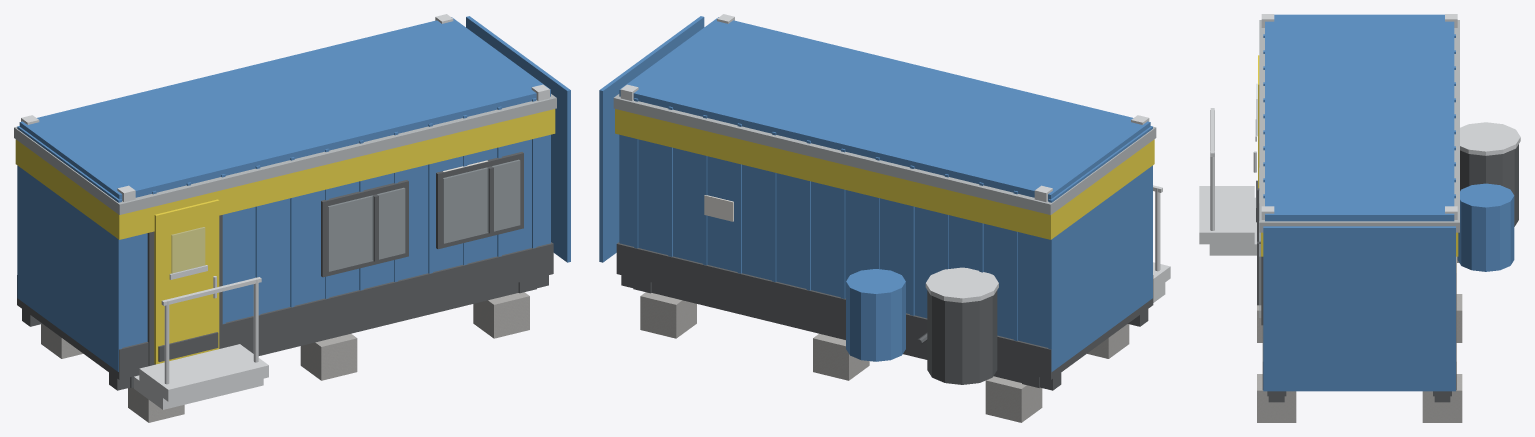
File: demolition-and-site-clearance-demolition-and-site-clea-83ef736a__35699.glb
3 views of the same model, side by side, from view 1: azimuth 30°, elevation 25°; view 2: azimuth 150°, elevation 25°; view 3: azimuth 270°, elevation 25° (orthographic). The views are drawn at different scales.
Parts seen in each view (by area): view 1: demolition-and-site-clearance-welfare-unit, cabin-door/yellow, cabin-door/glass, cabin-door/charcoal; view 2: demolition-and-site-clearance-welfare-unit; view 3: demolition-and-site-clearance-welfare-unit.
Boxes of the visible parts, x1=… form: demolition-and-site-clearance-welfare-unit: x1=14, y1=14, x2=570, y2=422; cabin-door/yellow: x1=154, y1=199, x2=219, y2=364; cabin-door/glass: x1=171, y1=227, x2=205, y2=273; cabin-door/charcoal: x1=158, y1=332, x2=218, y2=361; demolition-and-site-clearance-welfare-unit: x1=599, y1=14, x2=1170, y2=422; demolition-and-site-clearance-welfare-unit: x1=1199, y1=14, x2=1520, y2=422.
Bounding box in the file's own units: 6.31 × 3.1 × 4.07.
8 materials, 1 textured.
